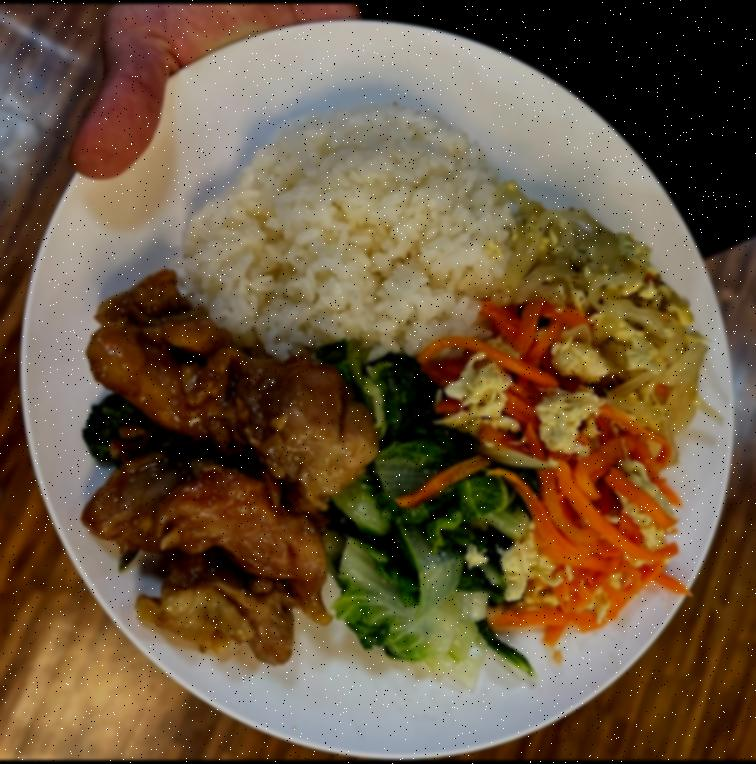big fried chicken leg: (13, 4, 737, 755)
big herbal chicken leg: (184, 116, 530, 368)
braised fish fillet: (444, 316, 680, 627), (332, 346, 526, 682), (513, 212, 710, 452)
braised pork: (91, 273, 366, 676)
